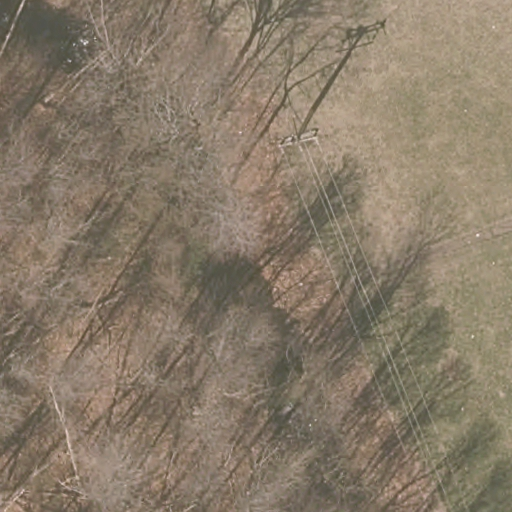DT: (260, 128, 318, 183)
